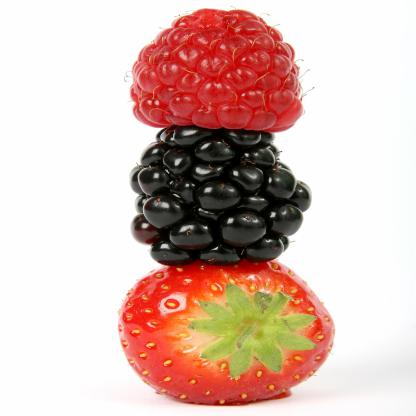strawberry: (111, 265, 335, 406)
